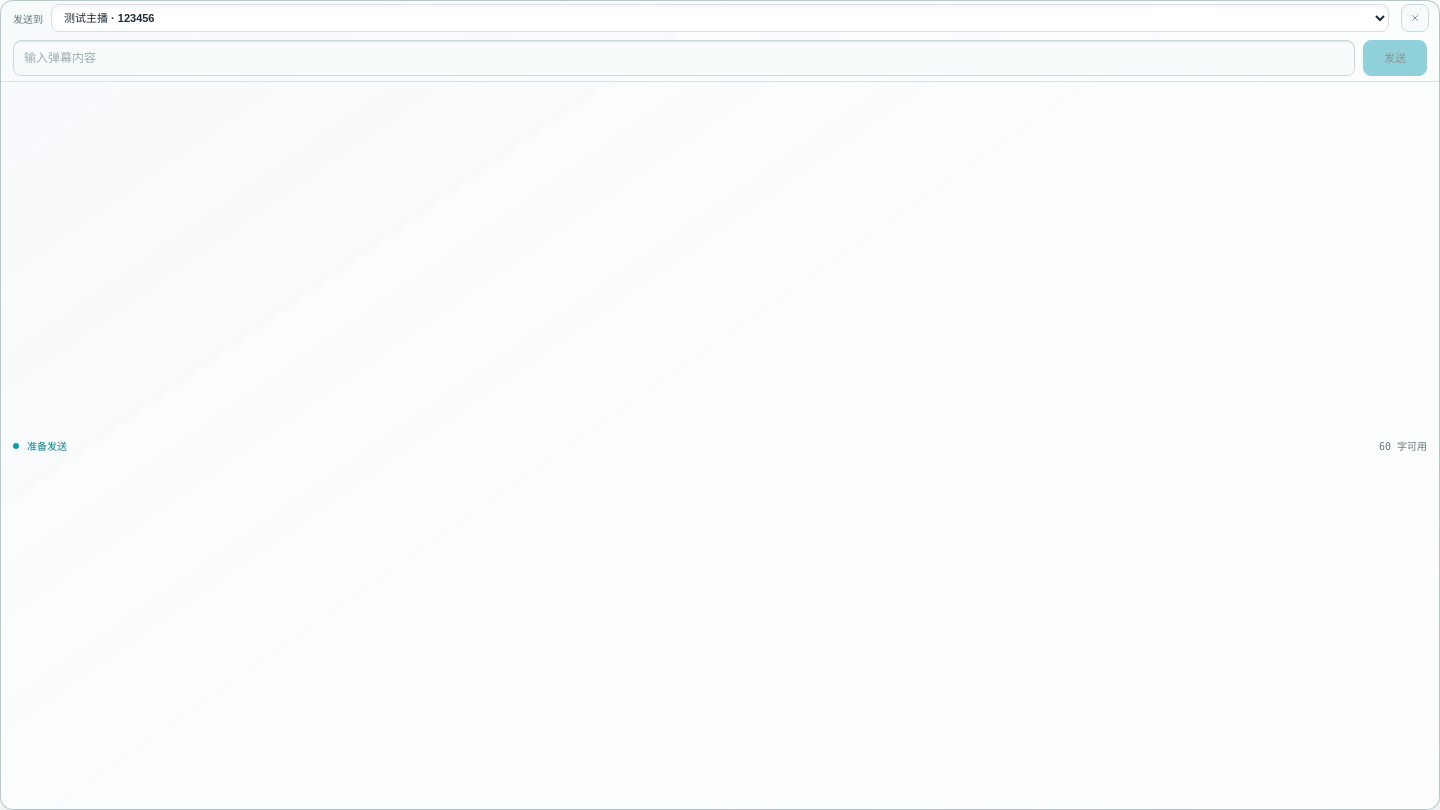
it: ignores a late status response after send success feedback is shown
Expected: the text "准备发送" is shown, [27, 438, 67, 453]
Type "发送成功后保留反馈" into the field labelled "弹幕内容" at (684, 58), box [13, 40, 1355, 76]
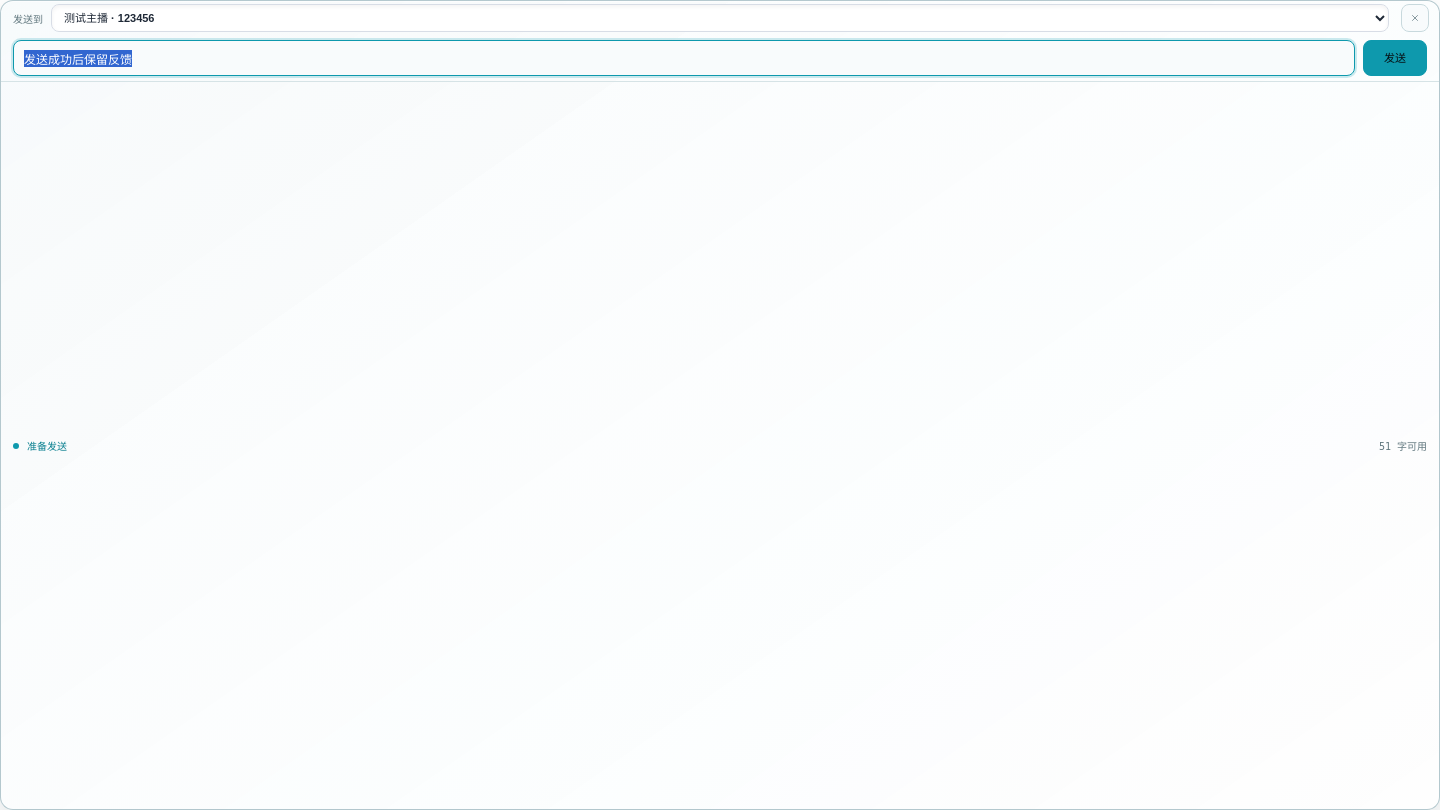
Click the button "发送" at (1395, 58), box [1363, 40, 1427, 76]
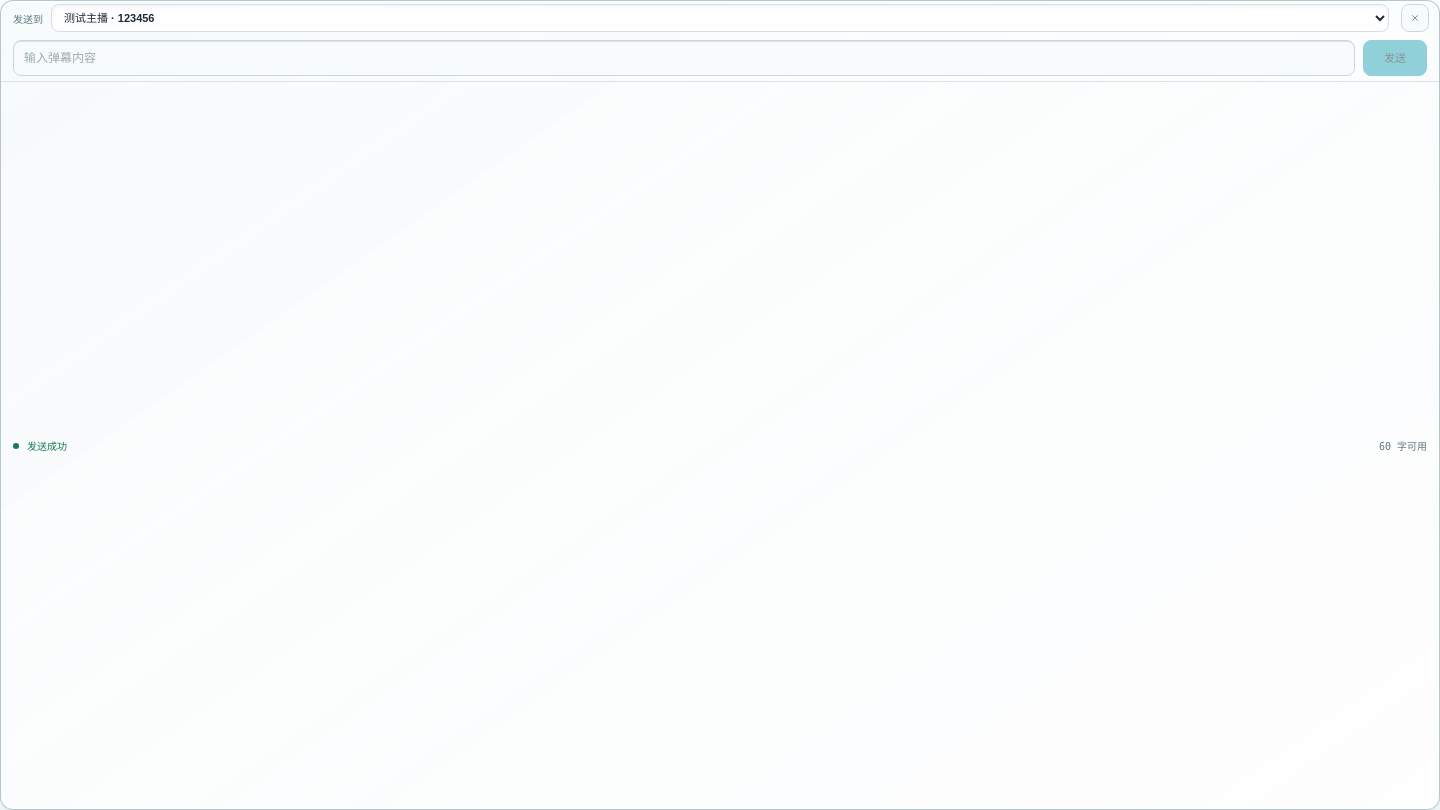
Expected: the message reads "发送成功", [27, 440, 67, 452]
